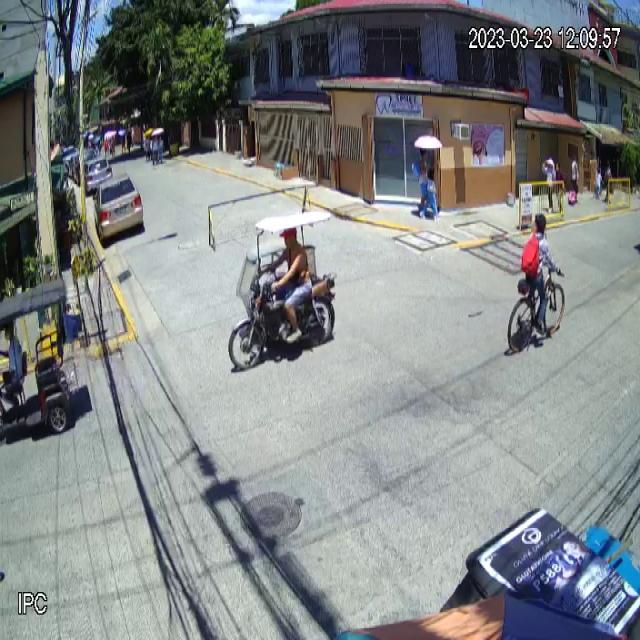Car: (92, 172, 144, 245)
Tricycle: (228, 209, 337, 370)
